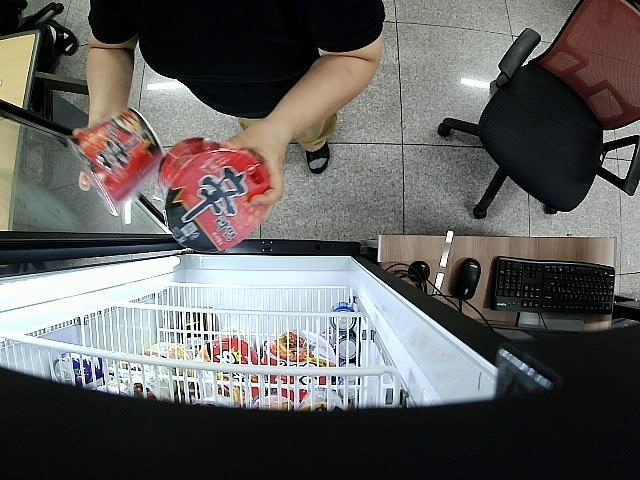01_ShinRamen_L: (158, 137, 270, 250), (76, 107, 160, 216)
